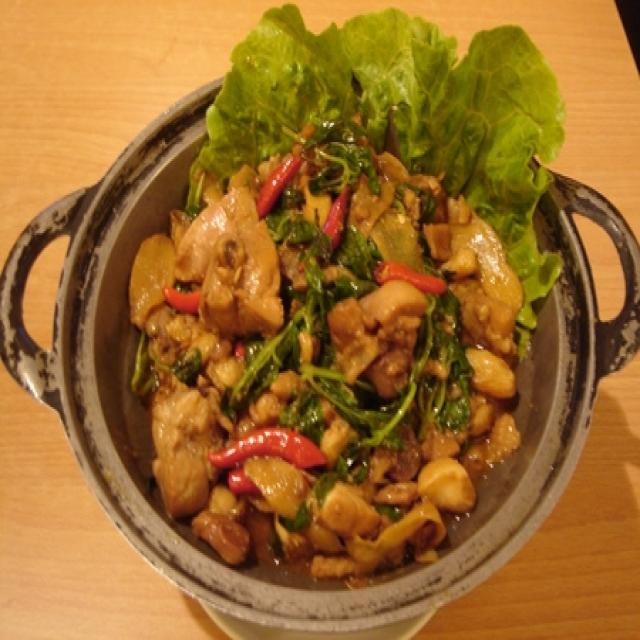鸡肉料理 含炸鸡: (31, 36, 612, 615)
